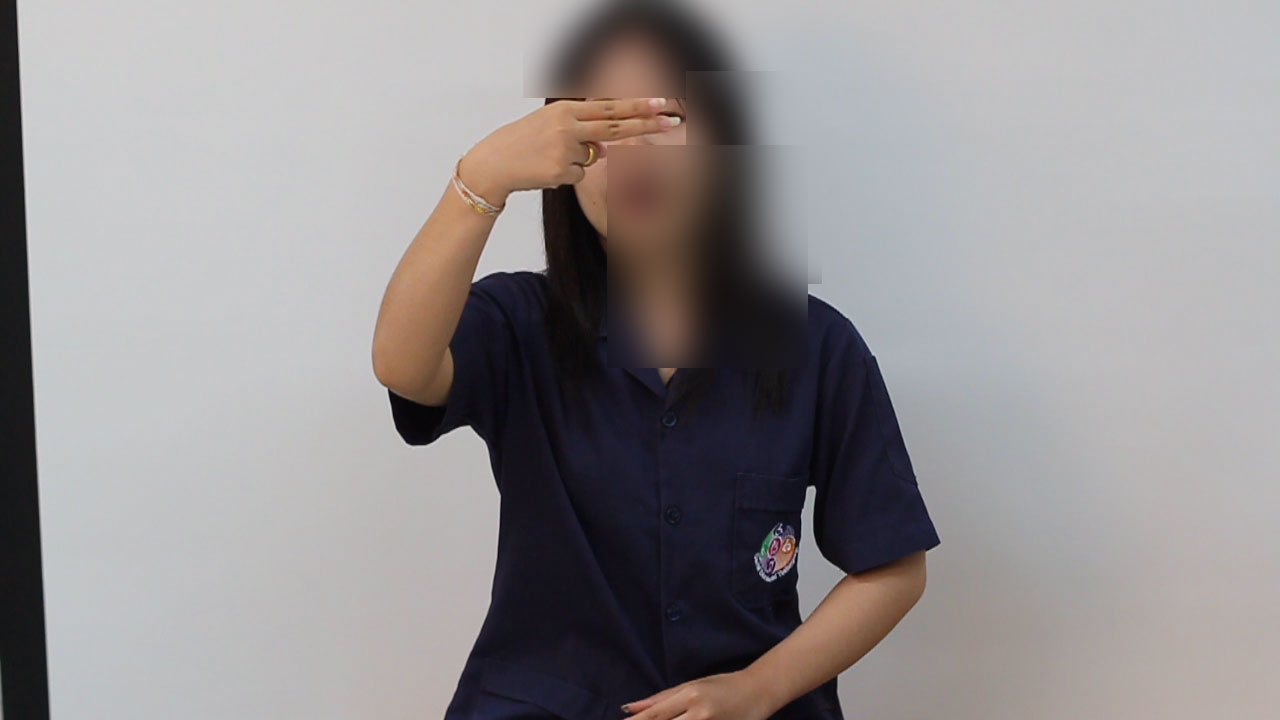hor: (429, 91, 694, 213)
